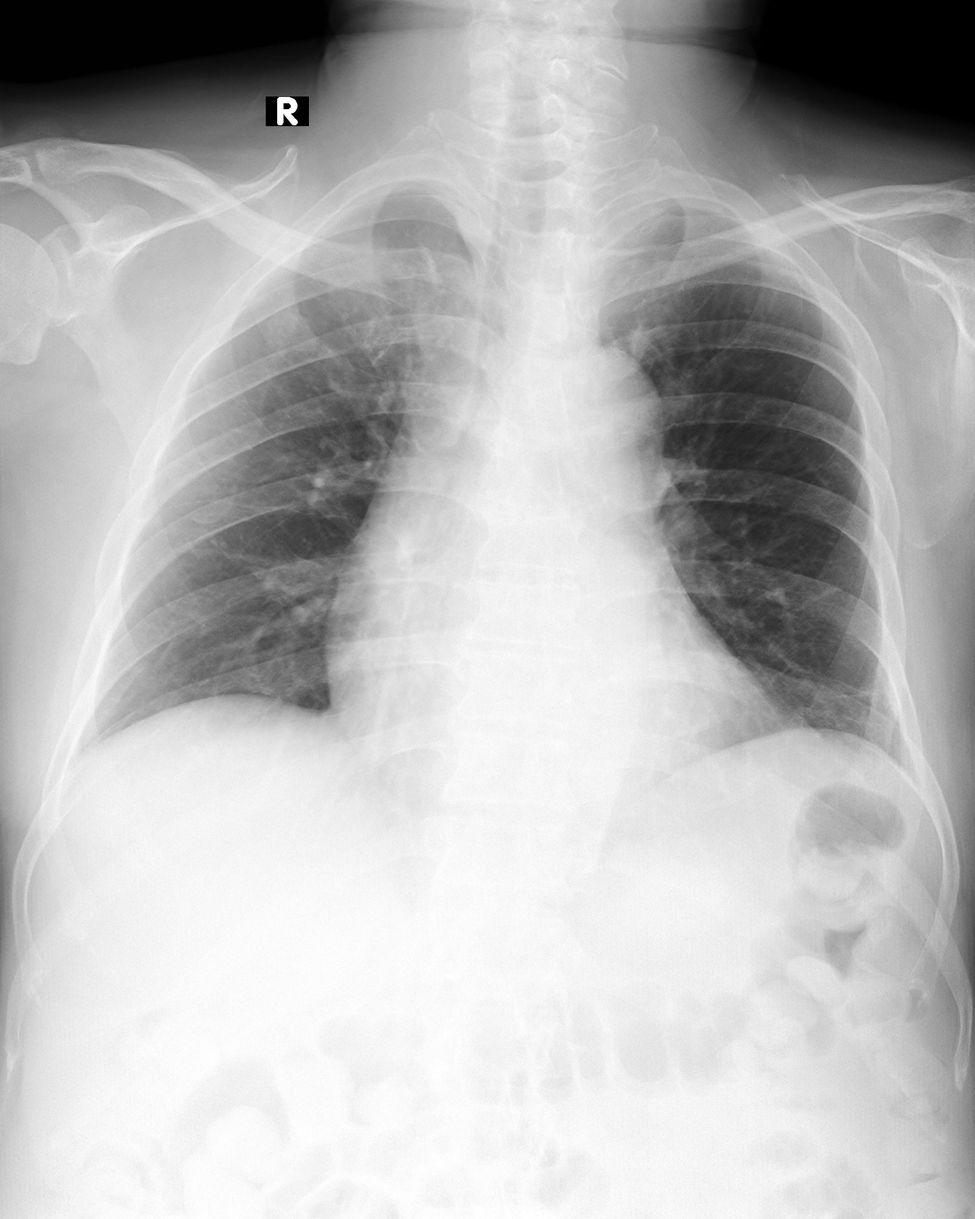Aortic enlargement: (535, 344, 668, 509)
